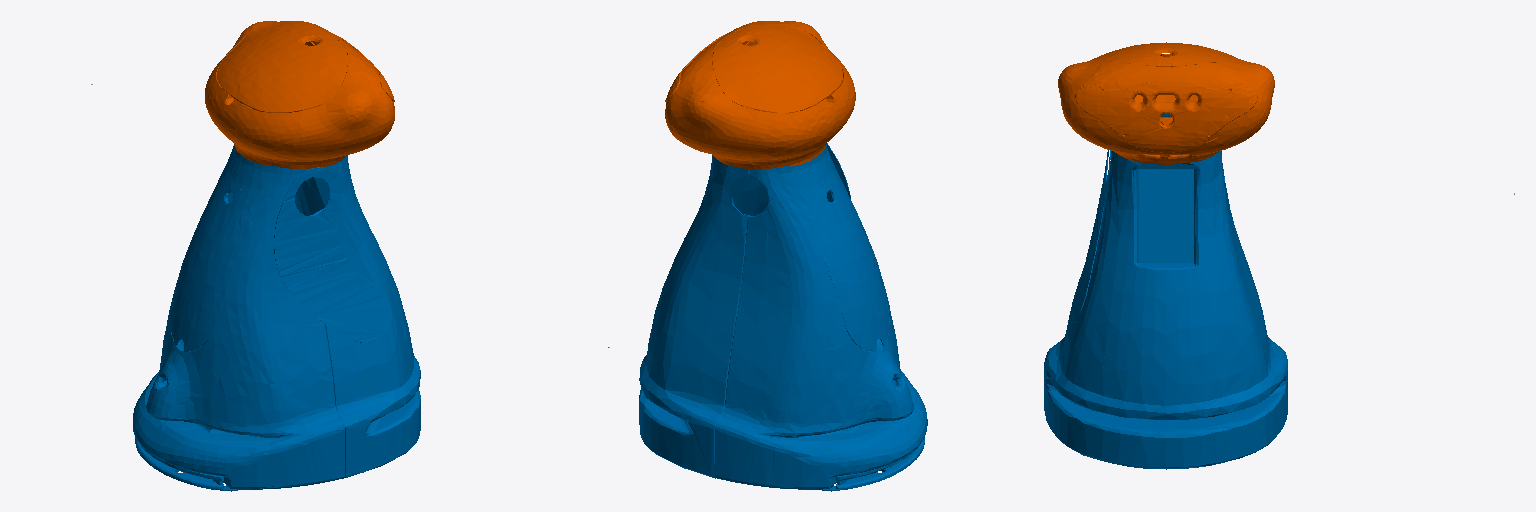
The robot description file, URDF, robot "cyton_gamma_1500":
<?xml version="1.0" ?>
<!-- =================================================================================== -->
<!-- |    Autogenerated by xacro from ../mbot_simulator/models/mbot.urdf.xacro         | -->
<!-- |    EDITING THIS FILE BY HAND IS NOT RECOMMENDED                                 | -->
<!-- =================================================================================== -->
<robot name="cyton_gamma_1500" xmlns:xacro="http://www.ros.org/wiki/xacro">
  <link name="arm_base_link">
    <visual>
      <origin rpy="0 0 0" xyz="0 0 0"/>
      <geometry>
        <mesh filename="package://mbot_simulator/meshes/base.dae"/>
      </geometry>
    </visual>
    <collision>
      <origin rpy="0 0 0" xyz="0 0 0"/>
      <geometry>
        <mesh filename="package://mbot_simulator/meshes/base.dae"/>
      </geometry>
    </collision>
  </link>
  <joint name="shoulder_roll_joint" type="revolute">
    <parent link="arm_base_link"/>
    <child link="shoulder_roll"/>
    <origin rpy="0 0 0" xyz="0 0 0.05315"/>
    <limit effort="100.0" lower="-2.618" upper="2.618" velocity="1.0"/>
    <axis xyz="0 0 1"/>
  </joint>
  <link name="shoulder_roll">
    <visual>
      <origin rpy="1.5708 0 0.384" xyz="0 0 0"/>
      <geometry>
        <mesh filename="package://mbot_simulator/meshes/shoulder_roll.dae"/>
      </geometry>
    </visual>
          <collision>
      <origin rpy="1.5708 0 0.384" xyz="0 0 0"/>
      <geometry>
        <mesh filename="package://mbot_simulator/meshes/shoulder_roll.dae"/>
      </geometry>
    </collision>
  </link>
  <joint name="shoulder_pitch_joint" type="revolute">
    <parent link="shoulder_roll"/>
    <child link="shoulder_pitch"/>
    <origin rpy="0 0 0" xyz="0.0205 0 0.12435"/>
    <limit effort="100.0" lower="-1.8326" upper="1.8326" velocity="1.0"/>
    <axis xyz="1 0 0"/>
  </joint>
  <link name="shoulder_pitch">
    <visual>
      <origin rpy="1.5708 0 0" xyz="0 0 0"/>
      <geometry>
        <mesh filename="package://mbot_simulator/meshes/shoulder_pitch.dae"/>
      </geometry>
    </visual>
          <collision>
      <origin rpy="1.5708 0 0" xyz="0 0 0"/>
      <geometry>
        <mesh filename="package://mbot_simulator/meshes/shoulder_pitch.dae"/>
      </geometry>
    </collision>
  </link>
  <joint name="shoulder_yaw_joint" type="revolute">
    <parent link="shoulder_pitch"/>
    <child link="shoulder_yaw"/>
    <origin rpy="0 0 0" xyz="-0.0215 -0.0205 0.1255"/>
    <limit effort="100.0" lower="-1.8326" upper="1.8326" velocity="1.0"/>
    <axis xyz="0 -1 0"/>
  </joint>
  <link name="shoulder_yaw">
    <visual>
      <origin rpy="1.5708 0 -1.5708" xyz="0 0 0.0"/>
      <geometry>
        <mesh filename="package://mbot_simulator/meshes/shoulder_yaw.dae"/>
      </geometry>
    </visual>
       <collision>
      <origin rpy="1.5708 0 -1.5708" xyz="0 0 0.0"/>
      <geometry>
        <mesh filename="package://mbot_simulator/meshes/shoulder_yaw.dae"/>
      </geometry>
    </collision>
  </link>
  <joint name="elbow_pitch_joint" type="revolute">
    <parent link="shoulder_yaw"/>
    <child link="elbow_pitch"/>
    <origin rpy="0 0 0" xyz="0.018 0.0206 0.1158"/>
    <limit effort="100.0" lower="-1.8326" upper="1.8326" velocity="1.0"/>
    <axis xyz="1 0 0"/>
  </joint>
  <link name="elbow_pitch">
    <visual>
      <origin rpy="1.5708 0 3.1416" xyz="0 0 0"/>
      <geometry>
        <mesh filename="package://mbot_simulator/meshes/elbow_pitch.dae"/>
      </geometry>
    </visual>
    <collision>
      <origin rpy="1.5708 0 3.1416" xyz="0 0 0"/>
      <geometry>
        <mesh filename="package://mbot_simulator/meshes/elbow_pitch.dae"/>
      </geometry>
    </collision>
  </link>
  <joint name="elbow_yaw_joint" type="revolute">
    <parent link="elbow_pitch"/>
    <child link="elbow_yaw"/>
    <origin rpy="0 0 0" xyz="-0.0171 -0.018 0.09746"/>
    <limit effort="100.0" lower="-1.8326" upper="1.8326" velocity="1.0"/>
    <axis xyz="0 -1 0"/>
  </joint>
  <link name="elbow_yaw">
    <visual>
      <origin rpy="1.5708 0 1.5708" xyz="0 0 0"/>
      <geometry>
        <mesh filename="package://mbot_simulator/meshes/elbow_yaw.dae"/>
      </geometry>
    </visual>
       <collision>
      <origin rpy="1.5708 0 1.5708" xyz="0 0 0"/>
      <geometry>
        <mesh filename="package://mbot_simulator/meshes/elbow_yaw.dae"/>
      </geometry>
    </collision>
  </link>
  <joint name="wrist_pitch_joint" type="revolute">
    <parent link="elbow_yaw"/>
    <child link="wrist_pitch"/>
    <origin rpy="0 0 0" xyz="0.02626 0.018 0.0718"/>
    <limit effort="100.0" lower="-1.8326" upper="1.8326" velocity="1.0"/>
    <axis xyz="1 0 0"/>
  </joint>
  <link name="wrist_pitch">
    <visual>
      <origin rpy="1.5708 0 1.5708" xyz="0 0 0"/>
      <geometry>
        <mesh filename="package://mbot_simulator/meshes/wrist_pitch.dae"/>
      </geometry>
    </visual>
    <collision>
      <origin rpy="1.5708 0 1.5708" xyz="0 0 0"/>
      <geometry>
        <mesh filename="package://mbot_simulator/meshes/wrist_pitch.dae"/>
      </geometry>
    </collision>
  </link>
  <joint name="wrist_roll_joint" type="revolute">
    <parent link="wrist_pitch"/>
    <child link="wrist_roll"/>
    <origin rpy="0 0 0" xyz="-0.026255 0 0.051425"/>
    <limit effort="100.0" lower="-2.61799" upper="2.61799" velocity="1.0"/>
    <axis xyz="0 0 1"/>
  </joint>
  <link name="wrist_roll">
    <visual>
      <origin rpy="3.1416 0 -1.5708" xyz="0 0 0"/>
      <geometry>
        <mesh filename="package://mbot_simulator/meshes/wrist_roll.dae"/>
      </geometry>
    </visual>
    <collision>
      <!--origin rpy="3.1416 0 -1.5708" xyz="0 0 0"/-->
      <origin rpy="3.1416 0 -1.5708" xyz="0 0 0.05"/>
      <geometry>
        <!--mesh filename="package://mbot_simulator/meshes/wrist_roll.dae"/-->
        <box size="0.06 0.06 0.2"/>
      </geometry>
    </collision>
  </link>
  <joint name="gripper_joint" type="prismatic">
    <parent link="wrist_roll"/>
    <child link="gripper_finger1"/>
    <origin rpy="0 0 0" xyz="-0.01331 0.00485 0.077225"/>
    <limit effort="100.0" lower="-0.008" upper="0.008" velocity="1.0"/>
    <axis xyz="1 0 0"/>
  </joint>
  <link name="gripper_finger1">
    <visual>
      <origin rpy="0 0 0" xyz="0 0 0"/>
      <geometry>
        <mesh filename="package://mbot_simulator/meshes/gripper_finger1.dae"/>
      </geometry>
    </visual>
    <!--collision>
      <origin rpy="0 0 0" xyz="0 0 0"/>
      <geometry>
        <mesh filename="package://mbot_simulator/meshes/gripper_finger1.dae"/>
      </geometry>
    </collision-->
  </link>
  <joint name="gripper_joint2" type="prismatic">
    <parent link="wrist_roll"/>
    <child link="gripper_finger2"/>
    <origin rpy="0 0 0" xyz="0.0098 0.00485 0.077225"/>
    <limit effort="100.0" lower="-0.008" upper="0.008" velocity="1.0"/>
    <mimic joint="gripper_joint" multiplier="-1"/>
    <axis xyz="1 0 0"/>
  </joint>
  <link name="gripper_finger2">
    <visual>
      <origin rpy="0 0 0" xyz="0 0 0"/>
      <geometry>
        <mesh filename="package://mbot_simulator/meshes/gripper_finger2.dae"/>
      </geometry>
    </visual>
    <!--collision>
      <origin rpy="0 0 0" xyz="0 0 0"/>
      <geometry>
        <mesh filename="package://mbot_simulator/meshes/gripper_finger2.dae"/>
      </geometry>
    </collision-->
  </link>
  <joint name="virtual_endeffector_joint" type="fixed">
    <parent link="wrist_roll"/>
    <child link="virtual_endeffector"/>
    <origin rpy="0 0 0" xyz="-0.002316 0.0079 0.079425"/>
  </joint>
  <link name="virtual_endeffector">
    <visual>
      <origin rpy="0 0 0" xyz="0 0 0"/>
      <geometry>
        <sphere radius="0.002"/>
      </geometry>
      <material name="grey">
        <color rgba="0.7 0.7 0.7 0.8"/>
      </material>
    </visual>
  </link>
  <link name="mbot_base_link"/>
  <link name="mbot_body_link">
    <visual>
      <geometry>
        <mesh filename="package://mbot_simulator/meshes/mbot_body.dae"/>
      </geometry>
      <origin rpy="1.57079632679 0 1.57079632679" xyz="0 0 0.025"/>
    </visual>
    <collision>
      <geometry>
        <mesh filename="package://mbot_simulator/meshes/mbot_body.dae"/>
      </geometry>
      <origin rpy="1.57079632679 0 1.57079632679" xyz="0 0 0.025"/>
    </collision>
    <inertial>
      <mass value="50.0"/>
      <origin xyz="0.0 0.0 0.0"/>
      <inertia ixx="1.0" ixy="0.0" ixz="0.0" iyy="1.0" iyz="0.0" izz="1.0"/>
    </inertial>
  </link>
  <link name="mbot_head_link">
    <visual>
      <geometry>
        <mesh filename="package://mbot_simulator/meshes/mbot_head.dae"/>
      </geometry>
      <origin rpy="1.57079632679 0 1.57079632679" xyz="-0.05 0 0"/>
    </visual>
    <!--collision>
      <geometry>
        <mesh filename="package://mbot_simulator/meshes/mbot_head.dae"/>
      </geometry>
      <origin rpy="1.57079632679 0 1.57079632679" xyz="-0.05 0 0"/>
    </collision-->
    <collision>
      <origin xyz="0.0 0.0 1.0"/>
      <geometry>
        <box size="0.48 0.48 0.4"/>
      </geometry>
    </collision>
    <inertial>
      <mass value="50.0"/>
      <origin xyz="0.0 0.0 0.0"/>
      <inertia ixx="1.0" ixy="0.0" ixz="0.0" iyy="1.0" iyz="0.0" izz="1.0"/>
    </inertial>
  </link>
  <joint name="mbot_main_joint" type="fixed">
    <parent link="mbot_base_link"/>
    <child link="mbot_body_link"/>
    <origin rpy="0 0 0" xyz="0 0 0"/>
  </joint>
  <joint name="mbot_head_joint" type="revolute">
    <parent link="mbot_body_link"/>
    <child link="mbot_head_link"/>
    <limit effort="100.0" lower="-1.57079632679" upper="1.57079632679" velocity="1.0"/>
    <axis xyz="0 0 1"/>
    <origin rpy="0 0 0" xyz="0.05 0 0"/>
  </joint>
  <joint name="body_to_arm_struct_joint" type="fixed">
    <parent link="mbot_body_link"/>
    <child link="mbot_arm_link"/>
    <origin rpy="-1.57079632679 -3.14159265359 0" xyz="0.04 0.101 0.633"/>
  </joint>
  <joint name="arm_struct_to_cyton_base_joint" type="fixed">
    <parent link="mbot_arm_link"/>
    <child link="arm_base_link"/>
    <origin rpy="0 0.1 -1.08210413624" xyz="0.0 0.0 0.0"/>
  </joint>
  <link name="mbot_arm_link">
    <inertial>
      <mass value="0.1"/>
      <origin xyz="0.0 0.0 0.0"/>
      <inertia ixx="1.0" ixy="0.0" ixz="0.0" iyy="1.0" iyz="0.0" izz="1.0"/>
    </inertial>
  </link>
  <link name="hokuyo_front_link">
    <visual>
      <geometry>
        <mesh filename="package://mbot_simulator/meshes/hokuyo.dae"/>
      </geometry>
    </visual>
    <inertial>
      <mass value="0.1"/>
      <origin xyz="0.0 0.0 0.0"/>
      <inertia ixx="1.0" ixy="0.0" ixz="0.0" iyy="1.0" iyz="0.0" izz="1.0"/>
    </inertial>
  </link>
  <link name="hokuyo_back_link">
    <visual>
      <geometry>
        <mesh filename="package://mbot_simulator/meshes/hokuyo.dae"/>
      </geometry>
    </visual>
    <inertial>
      <mass value="0.1"/>
      <origin xyz="0.0 0.0 0.0"/>
      <inertia ixx="1.0" ixy="0.0" ixz="0.0" iyy="1.0" iyz="0.0" izz="1.0"/>
    </inertial>
  </link>
  <link name="kinect_model_link">
    <inertial>
      <mass value="0.1"/>
      <origin xyz="0.0 0.0 0.0"/>
      <inertia ixx="1.0" ixy="0.0" ixz="0.0" iyy="1.0" iyz="0.0" izz="1.0"/>
    </inertial>
  </link>
  <link name="asus_xtion_model_link">
    <inertial>
      <mass value="0.1"/>
      <origin xyz="0.0 0.0 0.0"/>
      <inertia ixx="1.0" ixy="0.0" ixz="0.0" iyy="1.0" iyz="0.0" izz="1.0"/>
    </inertial>
  </link>
  <joint name="mbot_to_hokuyo_front_joint" type="fixed">
    <parent link="mbot_body_link"/>
    <child link="hokuyo_front_link"/>
    <origin rpy="0 0 0" xyz="0.2895 0 0.1365"/>
  </joint>
  <joint name="mbot_to_hokuyo_back_joint" type="fixed">
    <parent link="mbot_body_link"/>
    <child link="hokuyo_back_link"/>
    <origin rpy="3.14159265359 0 0" xyz="-0.275 0 0.145"/>
  </joint>
  <joint name="mbot_head_to_kinect_joint" type="fixed">
    <parent link="mbot_head_link"/>
    <child link="kinect_model_link"/>
    <origin rpy="0 0 0" xyz="0.155 0 0.92"/>
  </joint>
  <joint name="mbot_head_to_asus_xtion_joint" type="fixed">
    <parent link="mbot_head_link"/>
    <child link="asus_xtion_model_link"/>
    <origin rpy="0 0.785398163398 0" xyz="0.135 0 0.78"/>
  </joint>
</robot>

--- What the picture shows (computed from the rendered views, not written in the file) ---
Views: 3 orthographic renders of the robot side by side, from view 1: azimuth 30°, elevation 25°; view 2: azimuth 150°, elevation 25°; view 3: azimuth 270°, elevation 25°.
Model cyton_gamma_1500 with 19 links and 18 joints (8 revolute, 2 prismatic, 8 fixed), rooted at mbot_base_link, posed all joints at 0.
Links seen in each view (by area): view 1: mbot_body_link, mbot_head_link; view 2: mbot_body_link, mbot_head_link; view 3: mbot_body_link, mbot_head_link.
Boxes of the visible links, x1,y1,x2,y2 form: mbot_body_link: (133, 145, 420, 491); mbot_head_link: (205, 21, 394, 169); mbot_body_link: (639, 143, 927, 491); mbot_head_link: (665, 21, 855, 169); mbot_body_link: (1044, 114, 1287, 469); mbot_head_link: (1058, 42, 1274, 164).
Size in the robot's own frame: 0.669 by 1.1 by 0.973 metres.
2 mesh visuals loaded from 13 distinct referenced files (2 Collada DAE); not drawn: 12 (reference not matched to a file when rendering).